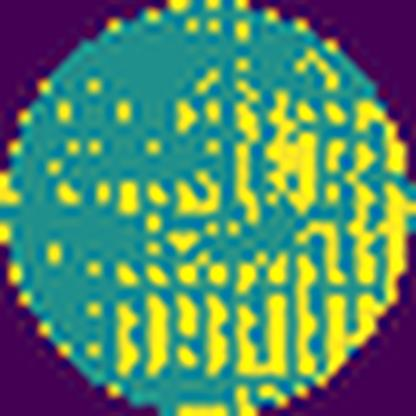Random: (98, 53, 415, 394)
